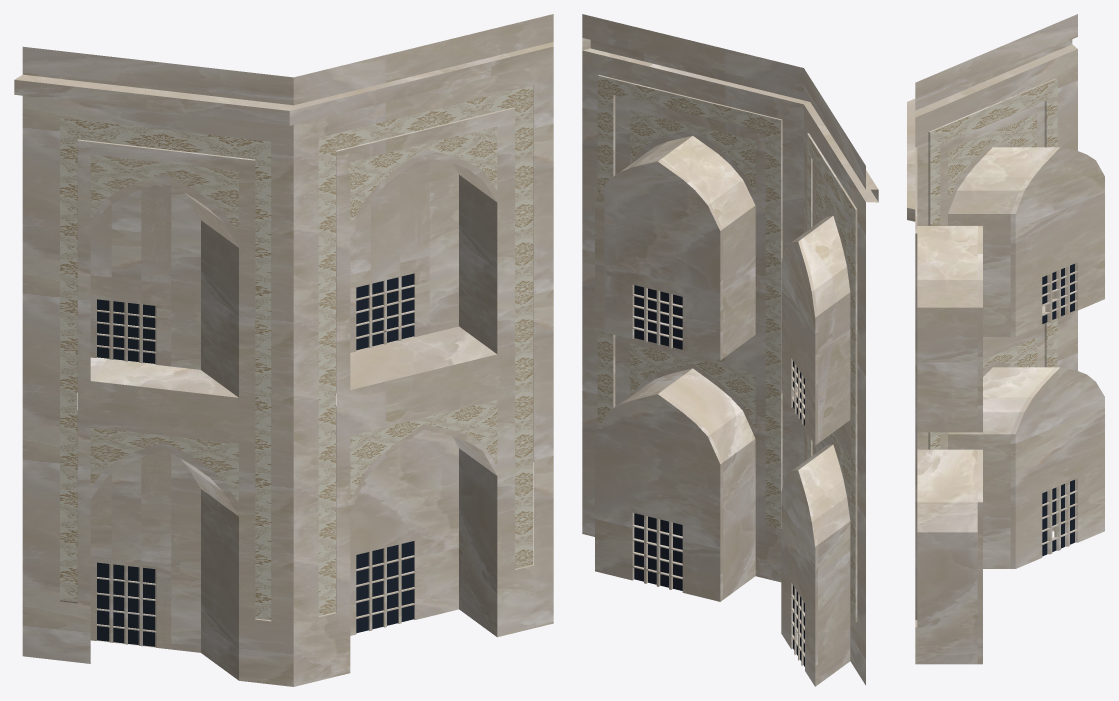
Rendered from Palace Side Wall 4.fbx.
3 views of the same model, side by side, from view 1: azimuth 30°, elevation 25°; view 2: azimuth 150°, elevation 25°; view 3: azimuth 270°, elevation 25° (orthographic). The views are drawn at different scales.
Visible parts, largest first — view 1: Cube.084; view 2: Cube.084; view 3: Cube.084.
Boxes of the visible parts, x1=… form: Cube.084: x1=14, y1=14, x2=553, y2=686; Cube.084: x1=582, y1=14, x2=878, y2=686; Cube.084: x1=907, y1=14, x2=1104, y2=664.
Size of the model in its own units: 1478 by 1941 by 696.
3 materials, 2 textured.
